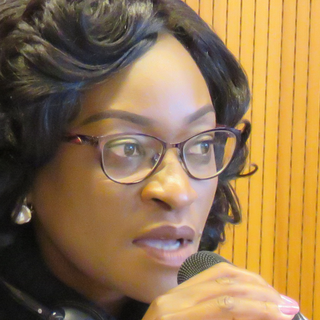eye: (100, 135, 154, 168), (179, 135, 220, 165)
